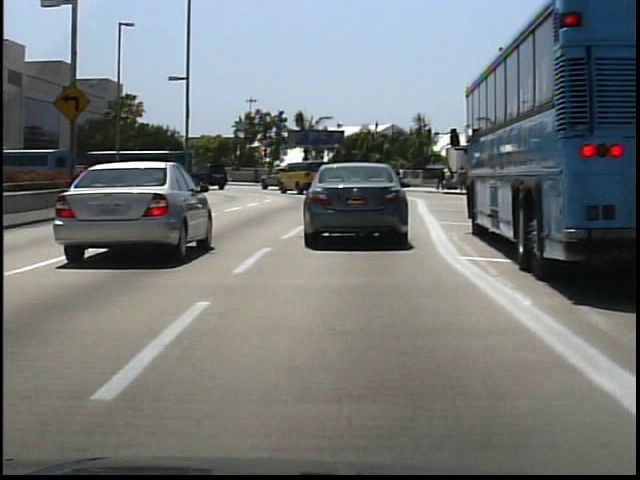person: (455, 163, 469, 194), (434, 166, 448, 193), (252, 162, 262, 184)
